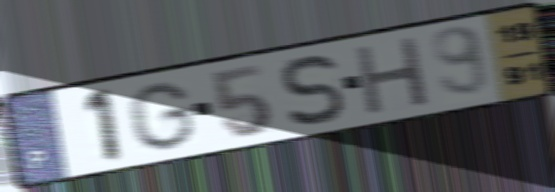1: (81, 84, 125, 165)
5: (208, 61, 276, 140)
9: (432, 25, 493, 104)
G: (124, 79, 199, 152)
H: (352, 33, 432, 119)
S: (279, 52, 348, 128)
